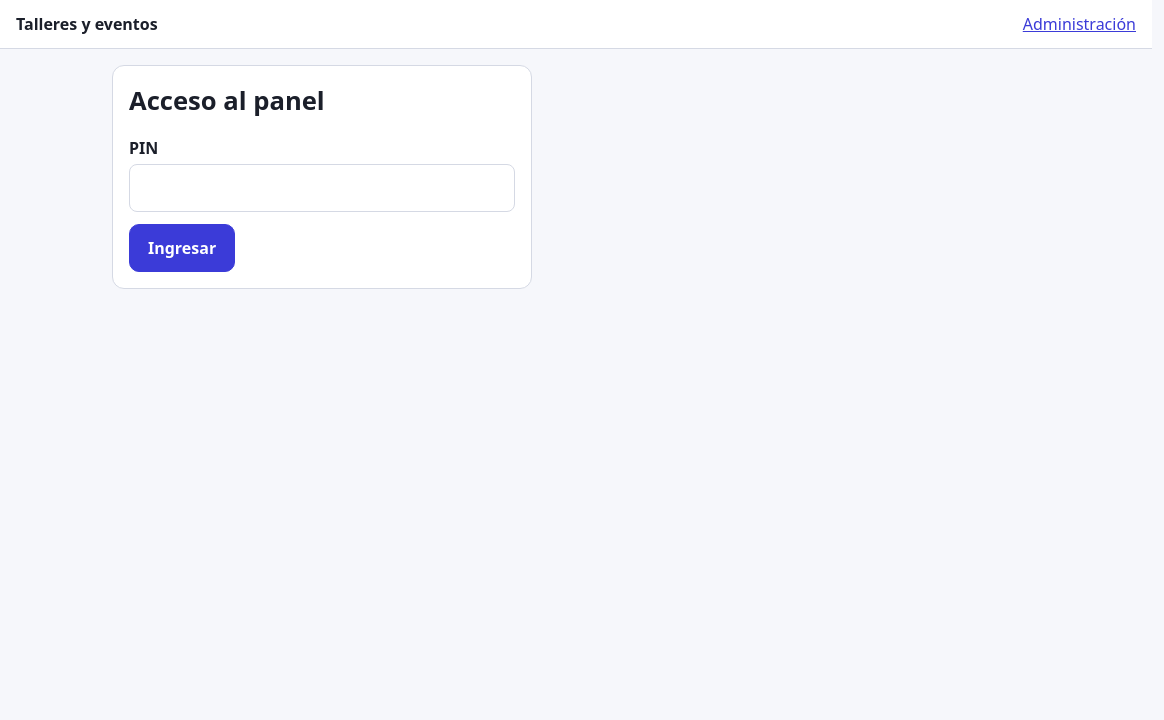
admin panel › shows the notification outbox
The image size is (1164, 720).
Type "4321" into the password field labelled "PIN".
click(322, 188); type("4321")  # box [129, 164, 515, 212]
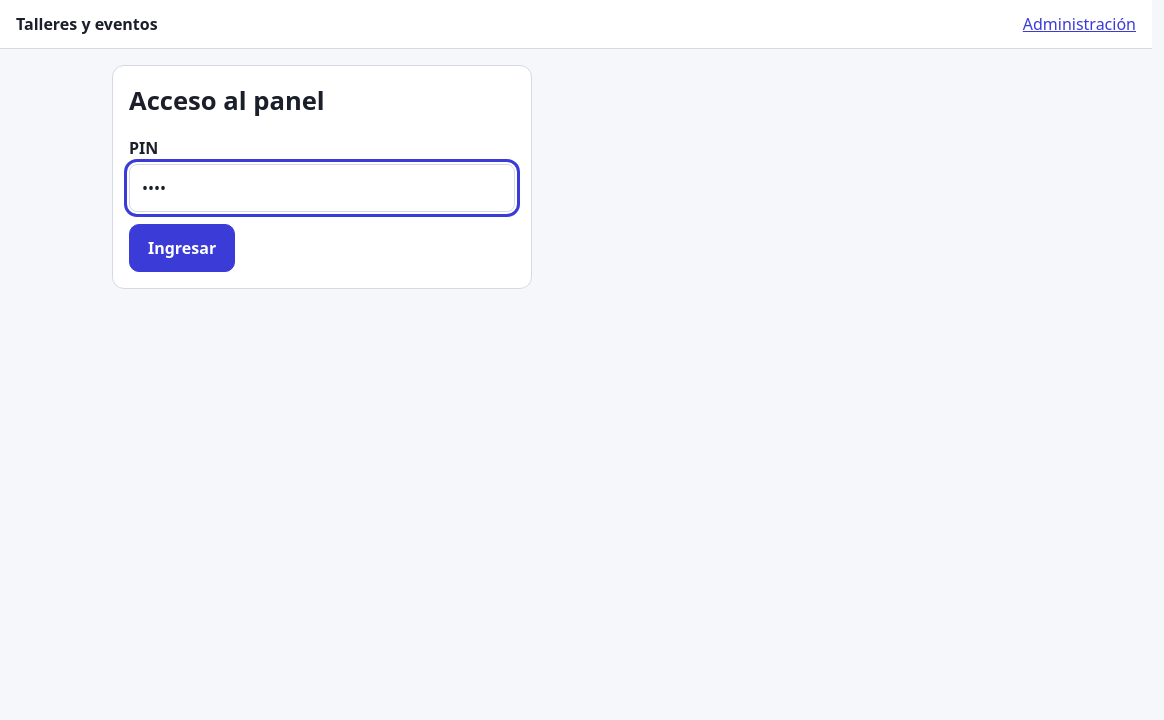
Click the button "Ingresar".
click(182, 248)  # box [129, 224, 235, 272]
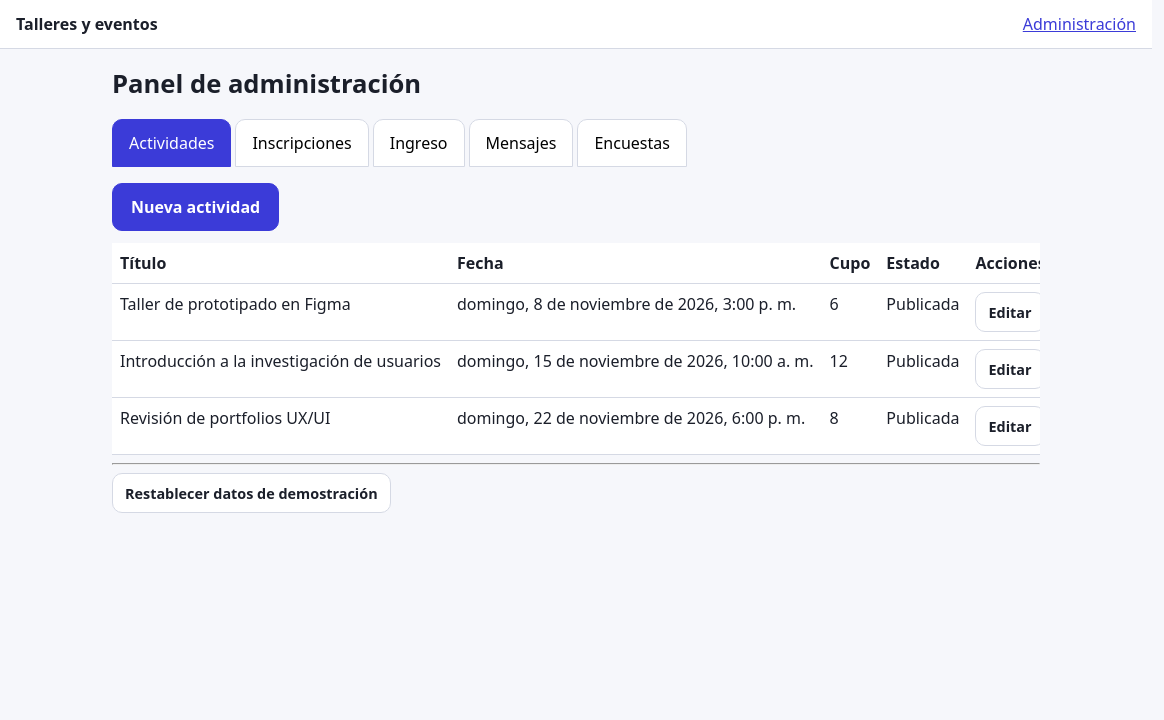
Click the tab "Mensajes".
click(521, 143)  # box [468, 119, 573, 167]
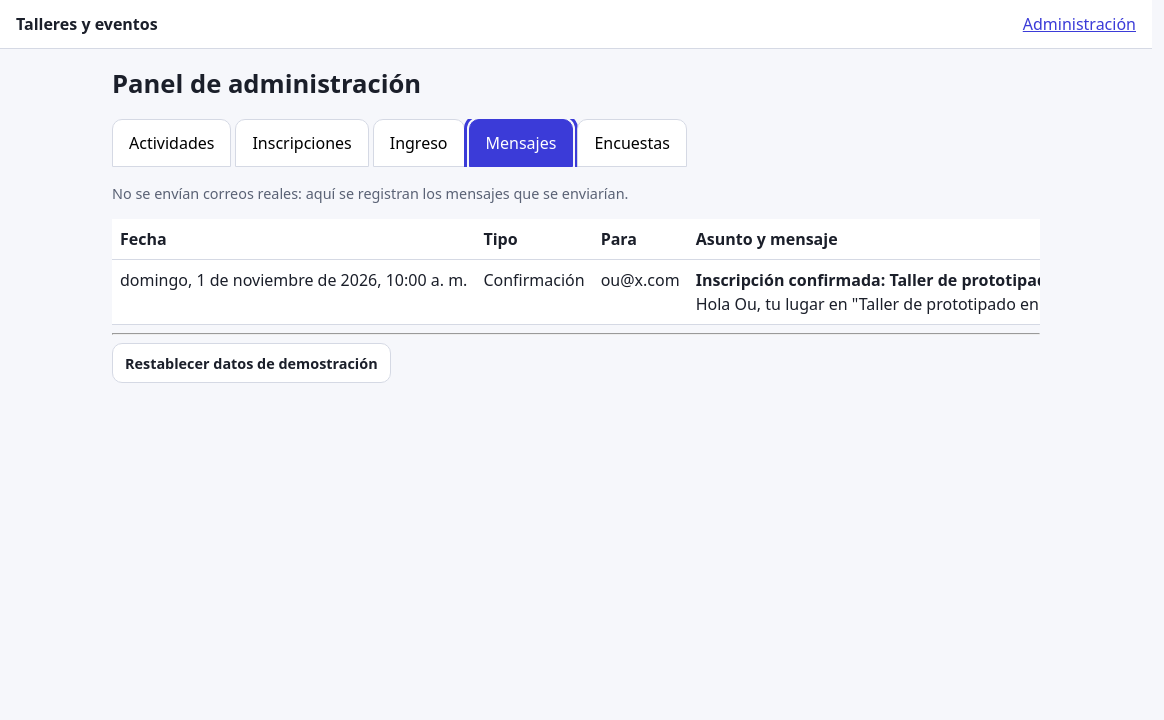
Result: the text "ou@x.com" is shown at [593, 260, 688, 325]
